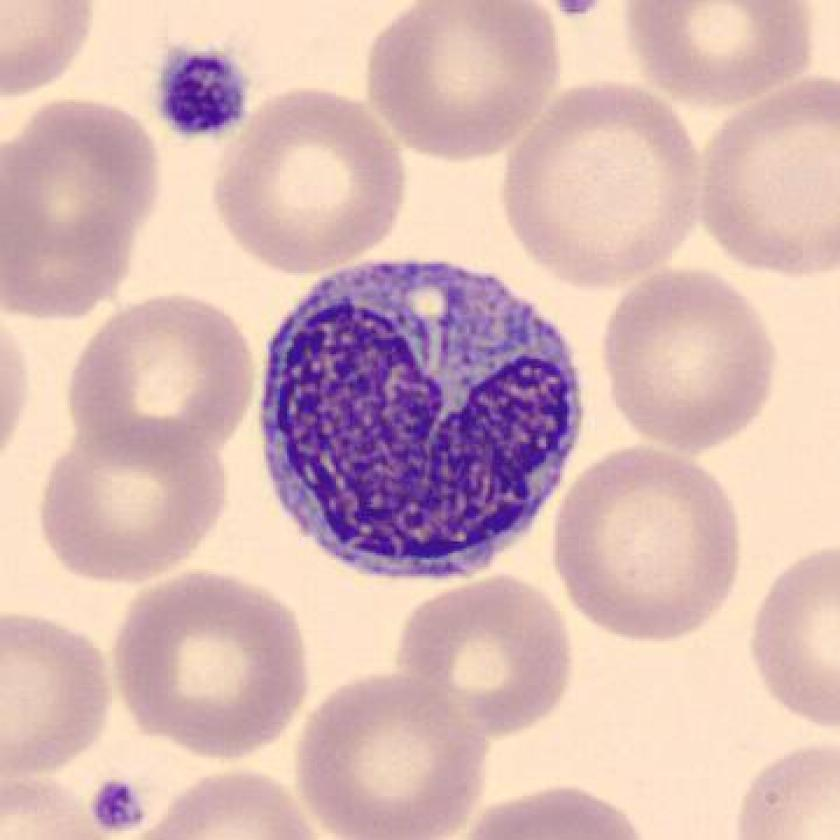monocyte: (241, 242, 610, 603)
